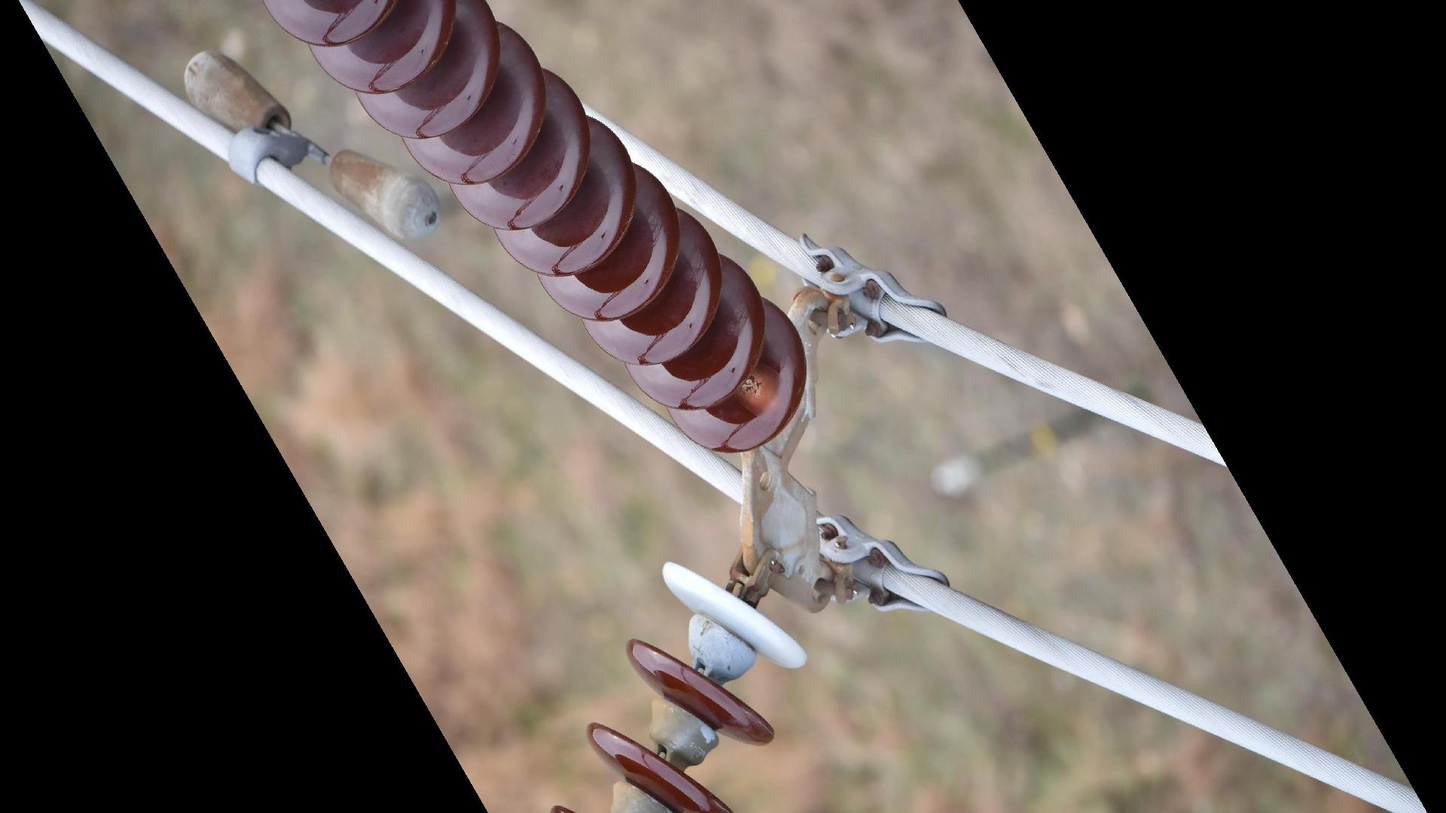insulator: (258, 1, 813, 459), (545, 555, 815, 813)
insulator_flashover: (737, 366, 789, 421)
